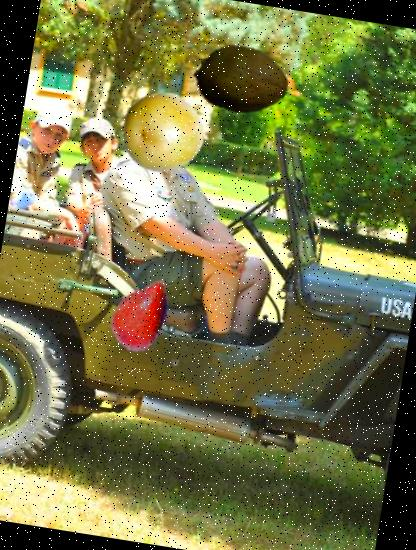Maracuja: (115, 85, 210, 180)
Papaya: (191, 31, 293, 132)
Salak: (96, 268, 186, 358)
